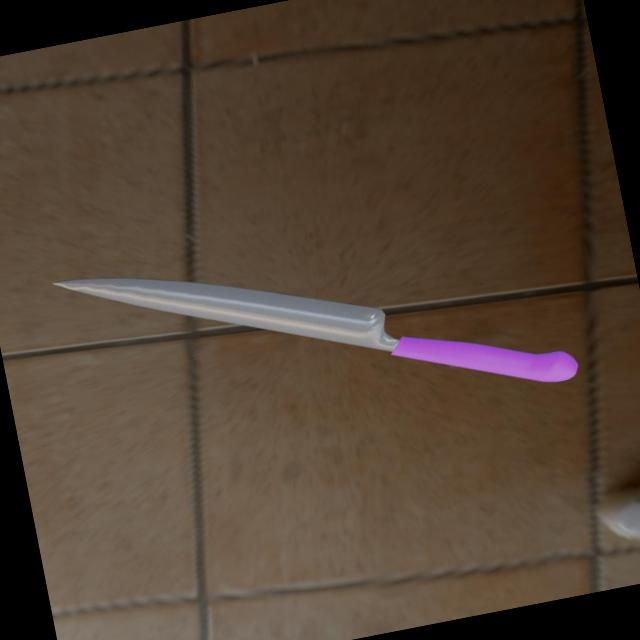knife: (388, 304, 582, 412)
